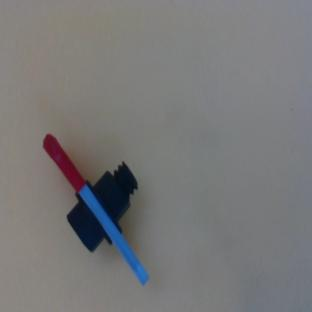part_1_good: (26, 107, 183, 301)
